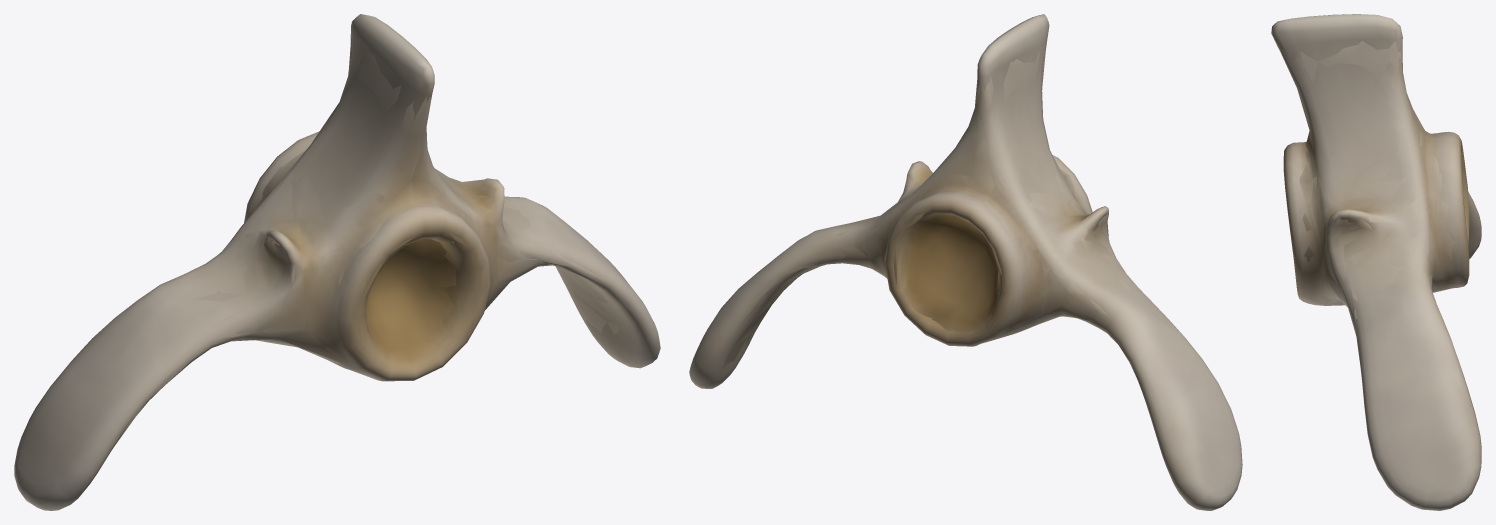
File: vertebrae lumbales 3.fbx
3 renders of one model, left to right at view 1: azimuth 30°, elevation 25°; view 2: azimuth 150°, elevation 25°; view 3: azimuth 270°, elevation 25°, orthographic. The views are drawn at different scales.
Parts seen in each view (by area): view 1: vertebrae lumbales 3, vertebrae lumbales 3 low; view 2: vertebrae lumbales 3, vertebrae lumbales 3 low; view 3: vertebrae lumbales 3, vertebrae lumbales 3 low.
Boxes of the visible parts, x1,y1,x2,y2 form: vertebrae lumbales 3: [14, 14, 660, 510]; vertebrae lumbales 3 low: [117, 38, 635, 442]; vertebrae lumbales 3: [689, 14, 1242, 510]; vertebrae lumbales 3 low: [723, 50, 1148, 411]; vertebrae lumbales 3: [1271, 14, 1481, 510]; vertebrae lumbales 3 low: [1277, 41, 1471, 371].
Size of the model in its own units: 9.38 by 6.45 by 3.28.
1 material, 1 textured.
